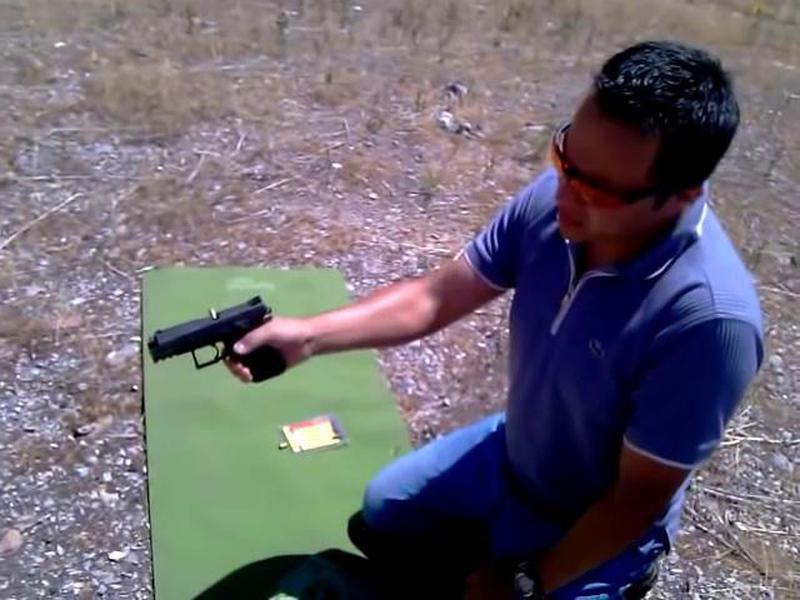Pistola: (141, 287, 296, 395)
